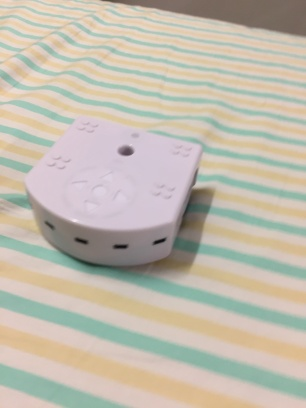thymio: (24, 108, 211, 279)
